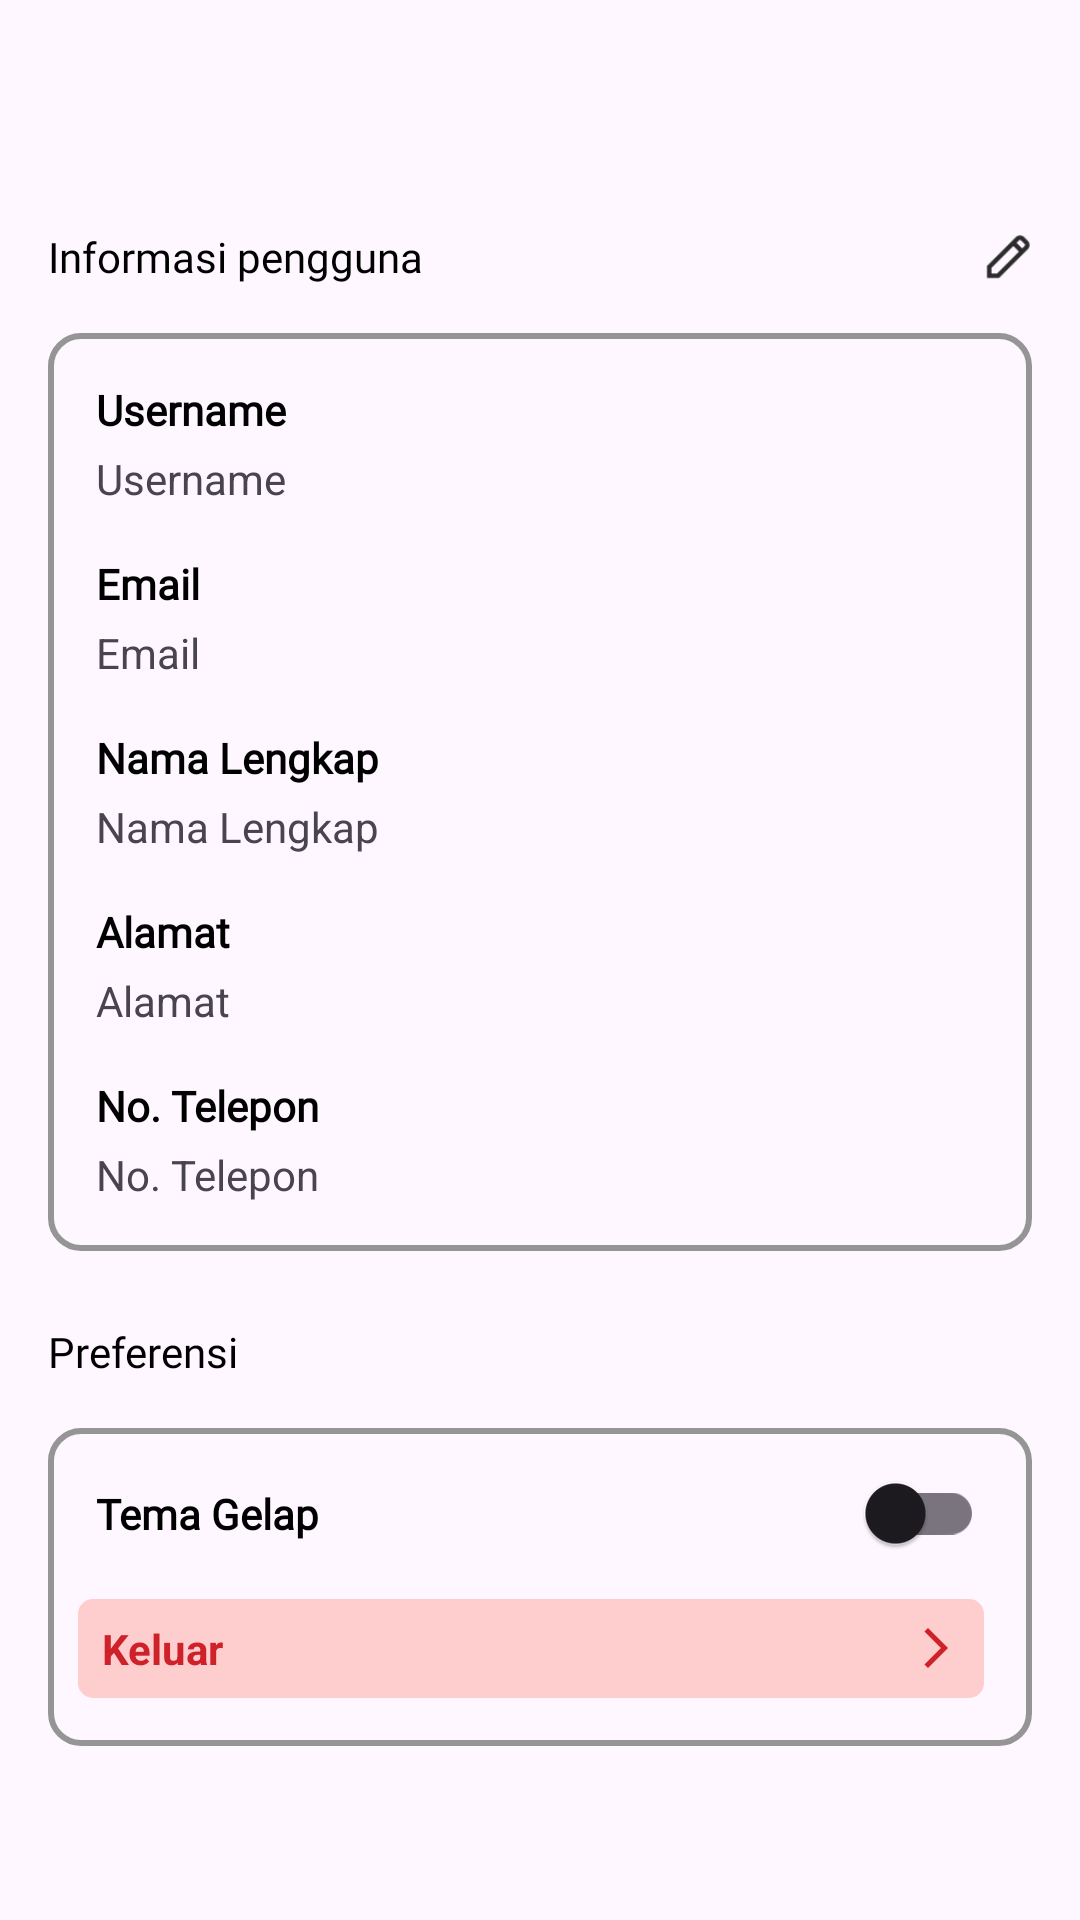

Where to tap for icons on this 1080*1920 app screen, as point (x, y):
arrow right: point (936, 1648)
Edit Profile: point (1008, 257)
